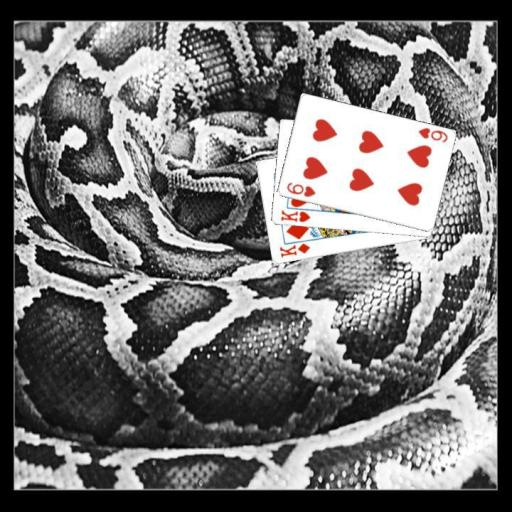6H: (415, 125, 449, 144), (283, 180, 316, 199)
KD: (276, 240, 311, 259)
KH: (278, 207, 312, 224)
